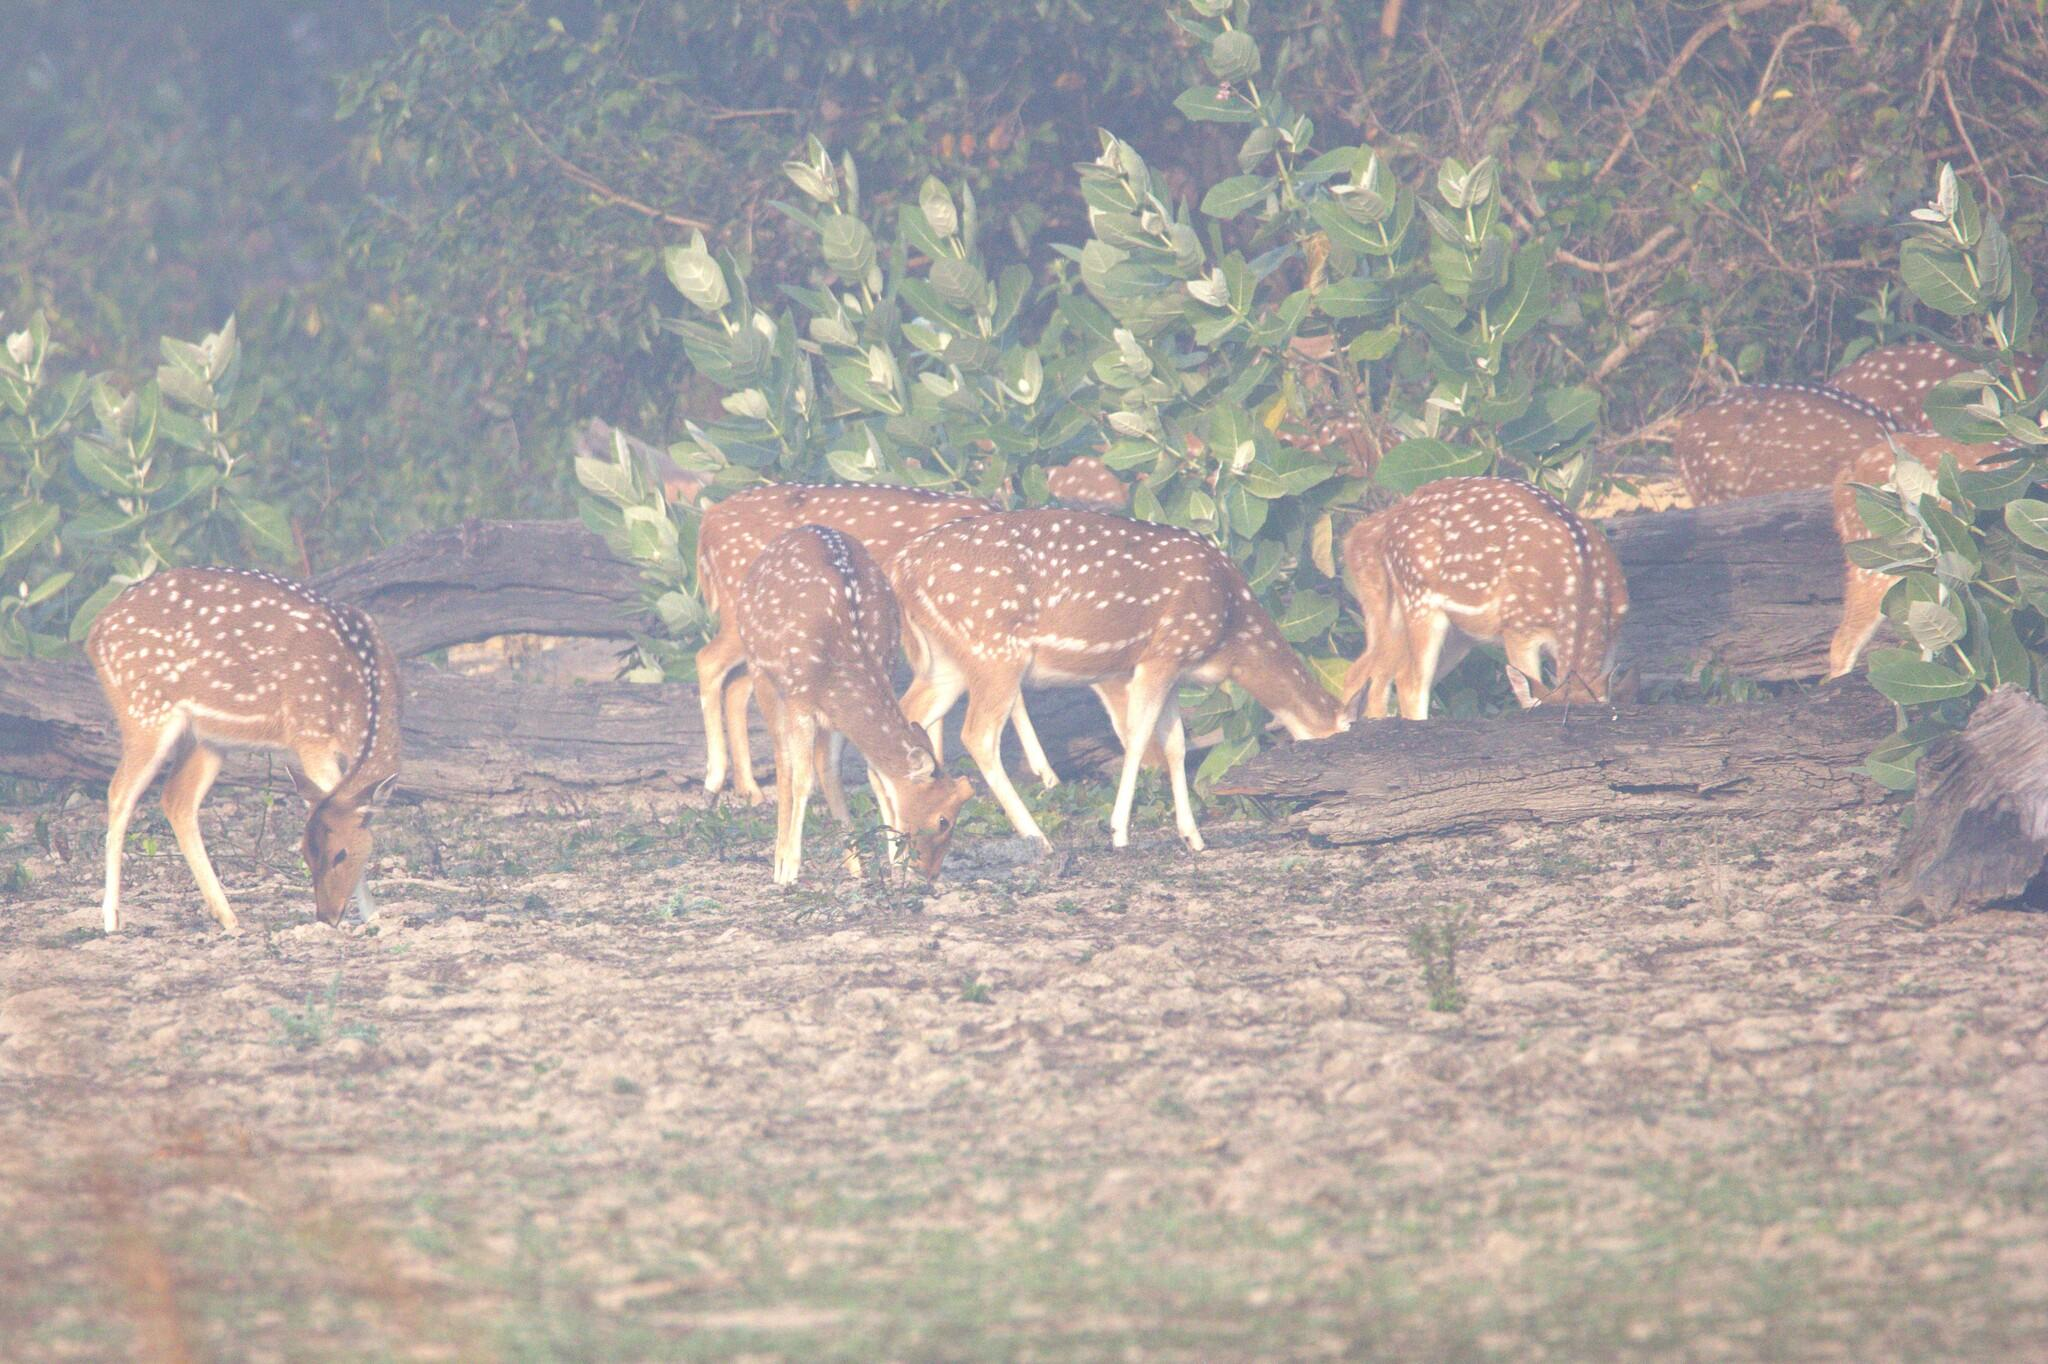Deer: (875, 510, 1350, 849), (87, 568, 400, 932), (697, 483, 994, 801), (743, 525, 965, 878), (1344, 476, 1628, 719), (1674, 385, 1884, 504), (1827, 343, 1970, 426)
